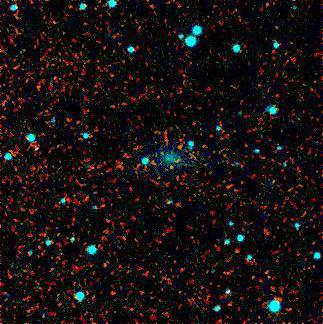star: (159, 154, 189, 184)
